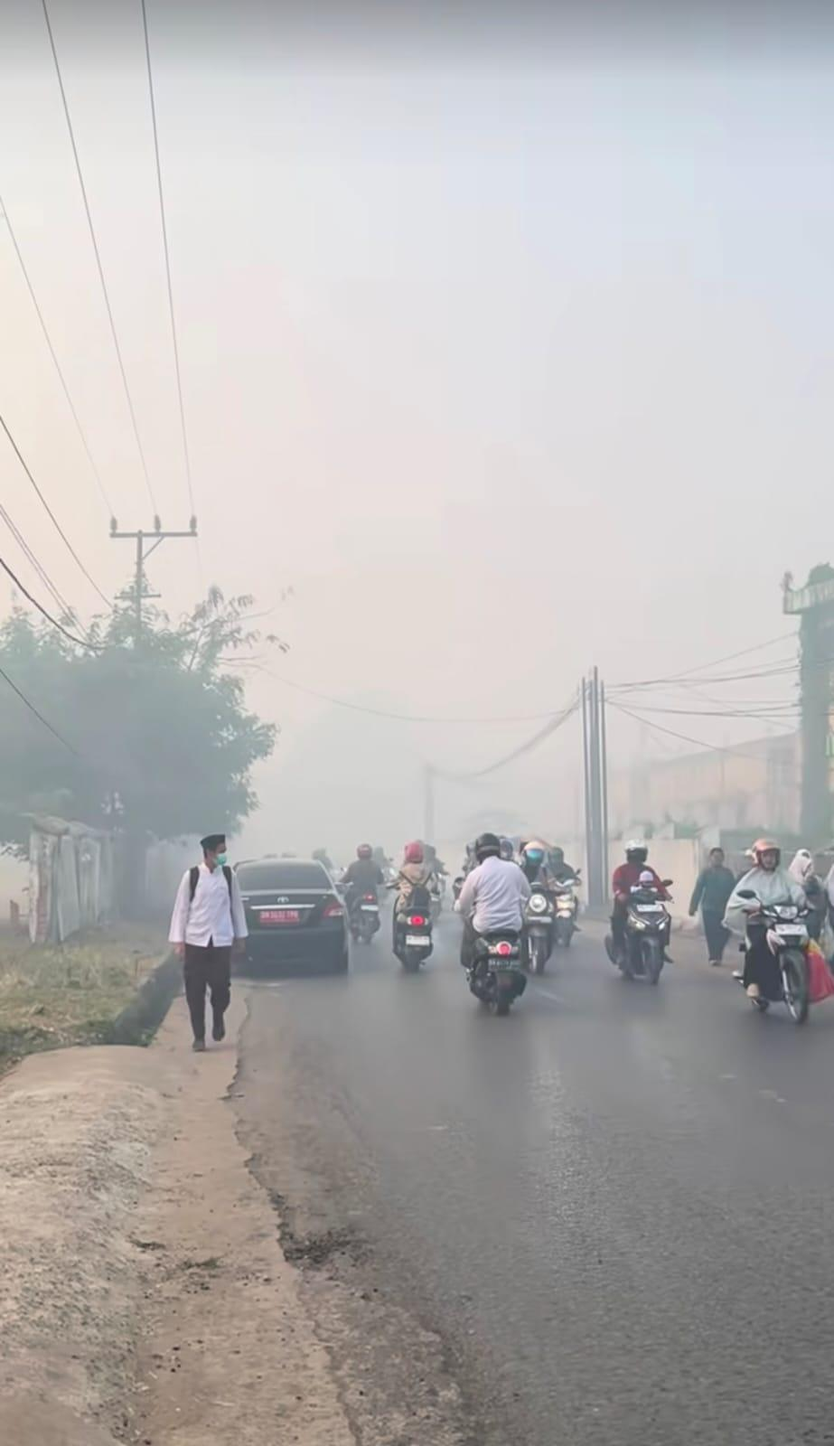Deteksi-Objek-Citra-Berasap: (0, 86, 834, 917)
Gedung: (601, 730, 834, 913)
Kendaraan: (231, 856, 349, 979), (731, 883, 820, 1027), (458, 908, 529, 1016), (604, 879, 674, 986), (389, 877, 440, 974), (518, 879, 555, 976), (345, 880, 385, 947), (549, 877, 582, 947)
Manusia: (167, 833, 248, 1051), (723, 837, 810, 1006), (455, 832, 530, 969), (610, 840, 667, 949), (688, 847, 735, 967), (388, 840, 438, 922), (513, 839, 557, 924), (340, 842, 384, 917), (545, 847, 576, 901), (788, 849, 816, 896)
Vegetasi: (0, 569, 289, 874), (0, 916, 174, 1058)
